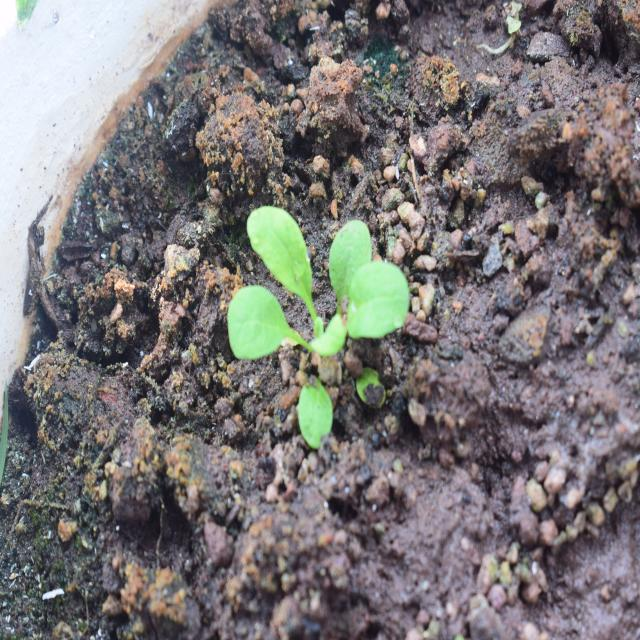Shepherd_Purse: (221, 180, 427, 448)
